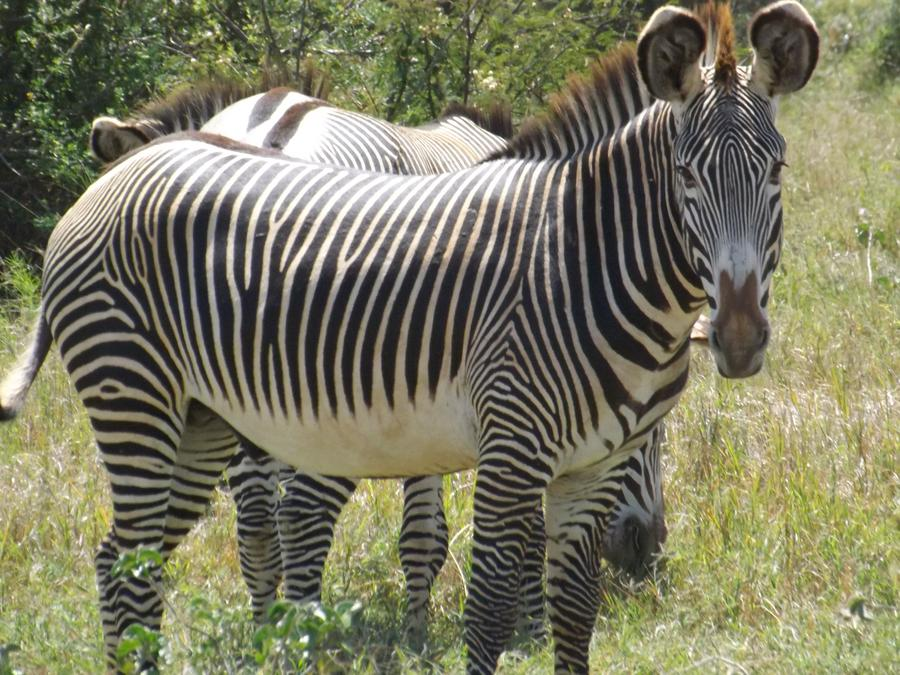zebra_grevys: (57, 95, 594, 467)
